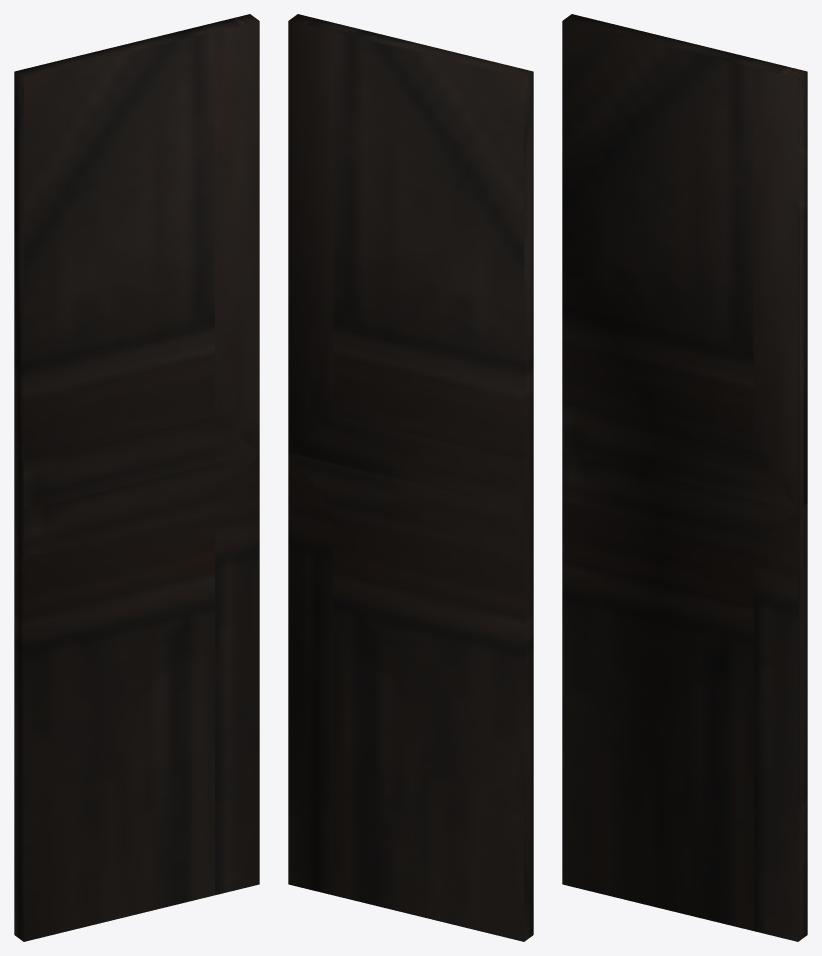
The model's file is door.obj.
The picture shows the model from 3 angles, left to right: view 1: azimuth 30°, elevation 25°; view 2: azimuth 150°, elevation 25°; view 3: azimuth 330°, elevation 25°; orthographic projection.
Visible parts, largest first — view 1: rdmobj00; view 2: rdmobj00; view 3: rdmobj00.
Boxes of the visible parts, x1=… form: rdmobj00: x1=14, y1=14, x2=259, y2=941; rdmobj00: x1=288, y1=14, x2=533, y2=941; rdmobj00: x1=562, y1=14, x2=807, y2=941.
Size of the model in its own units: 100 by 350 by 6.87.
